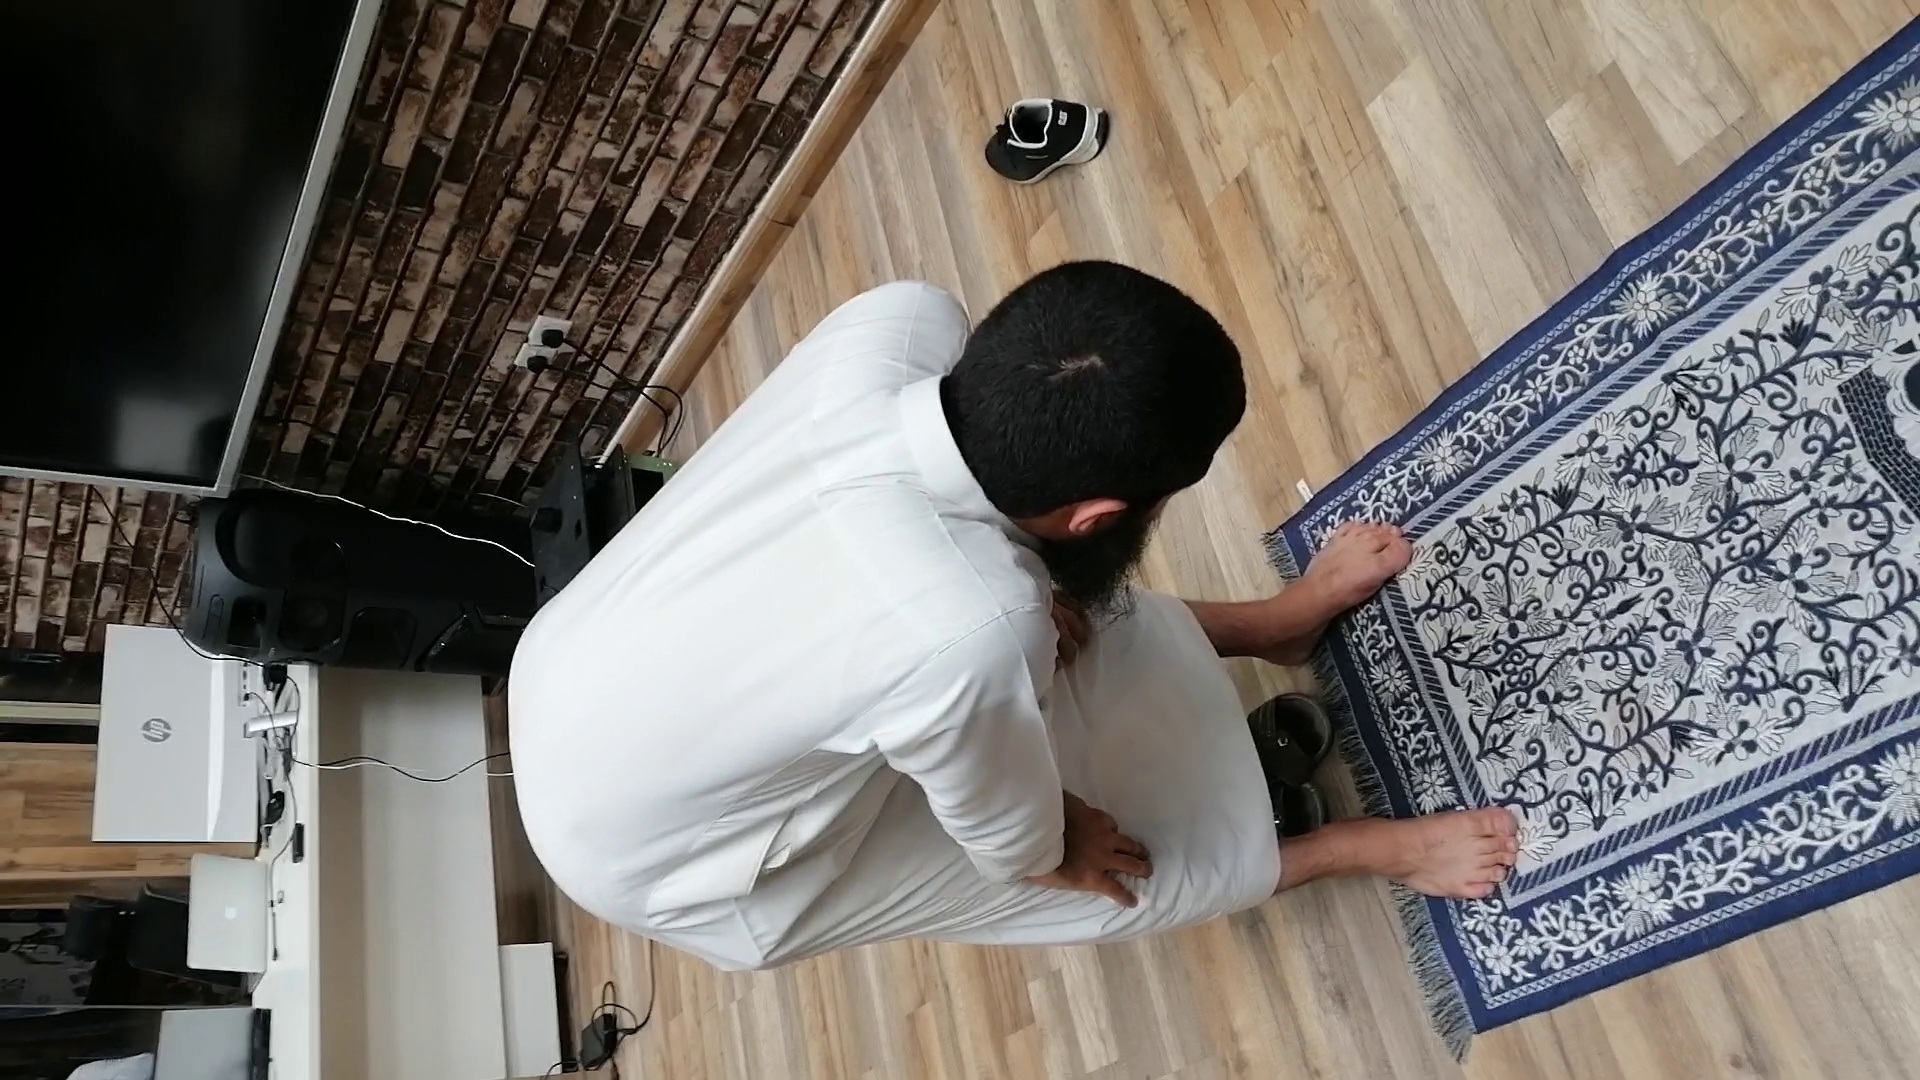ruku: (113, 218, 1638, 981)
